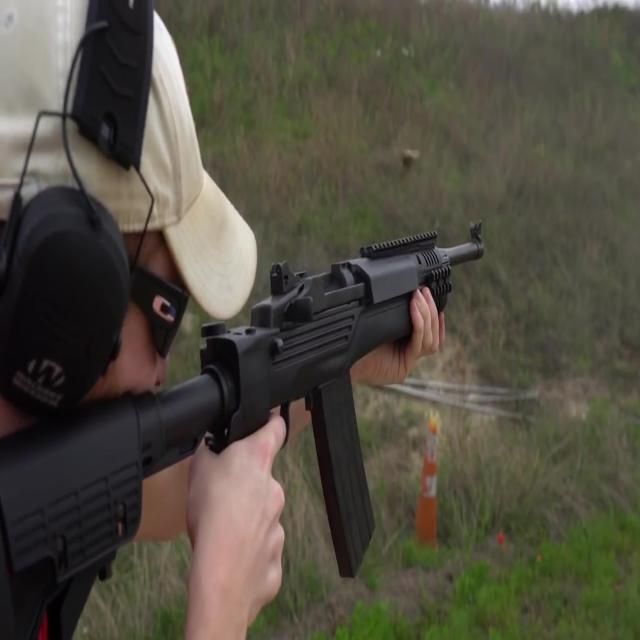Weapon: (0, 194, 540, 636)
